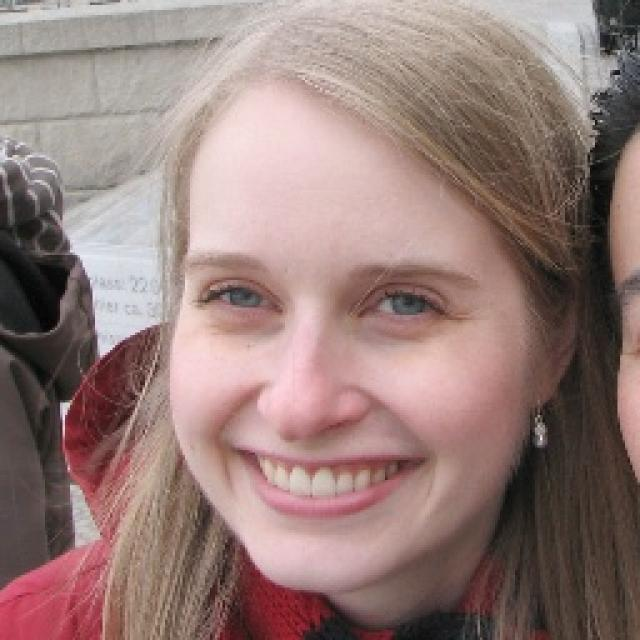earlobe: (531, 338, 573, 408)
eye: (361, 289, 447, 321), (199, 286, 284, 316)
nose: (262, 421, 357, 449)
